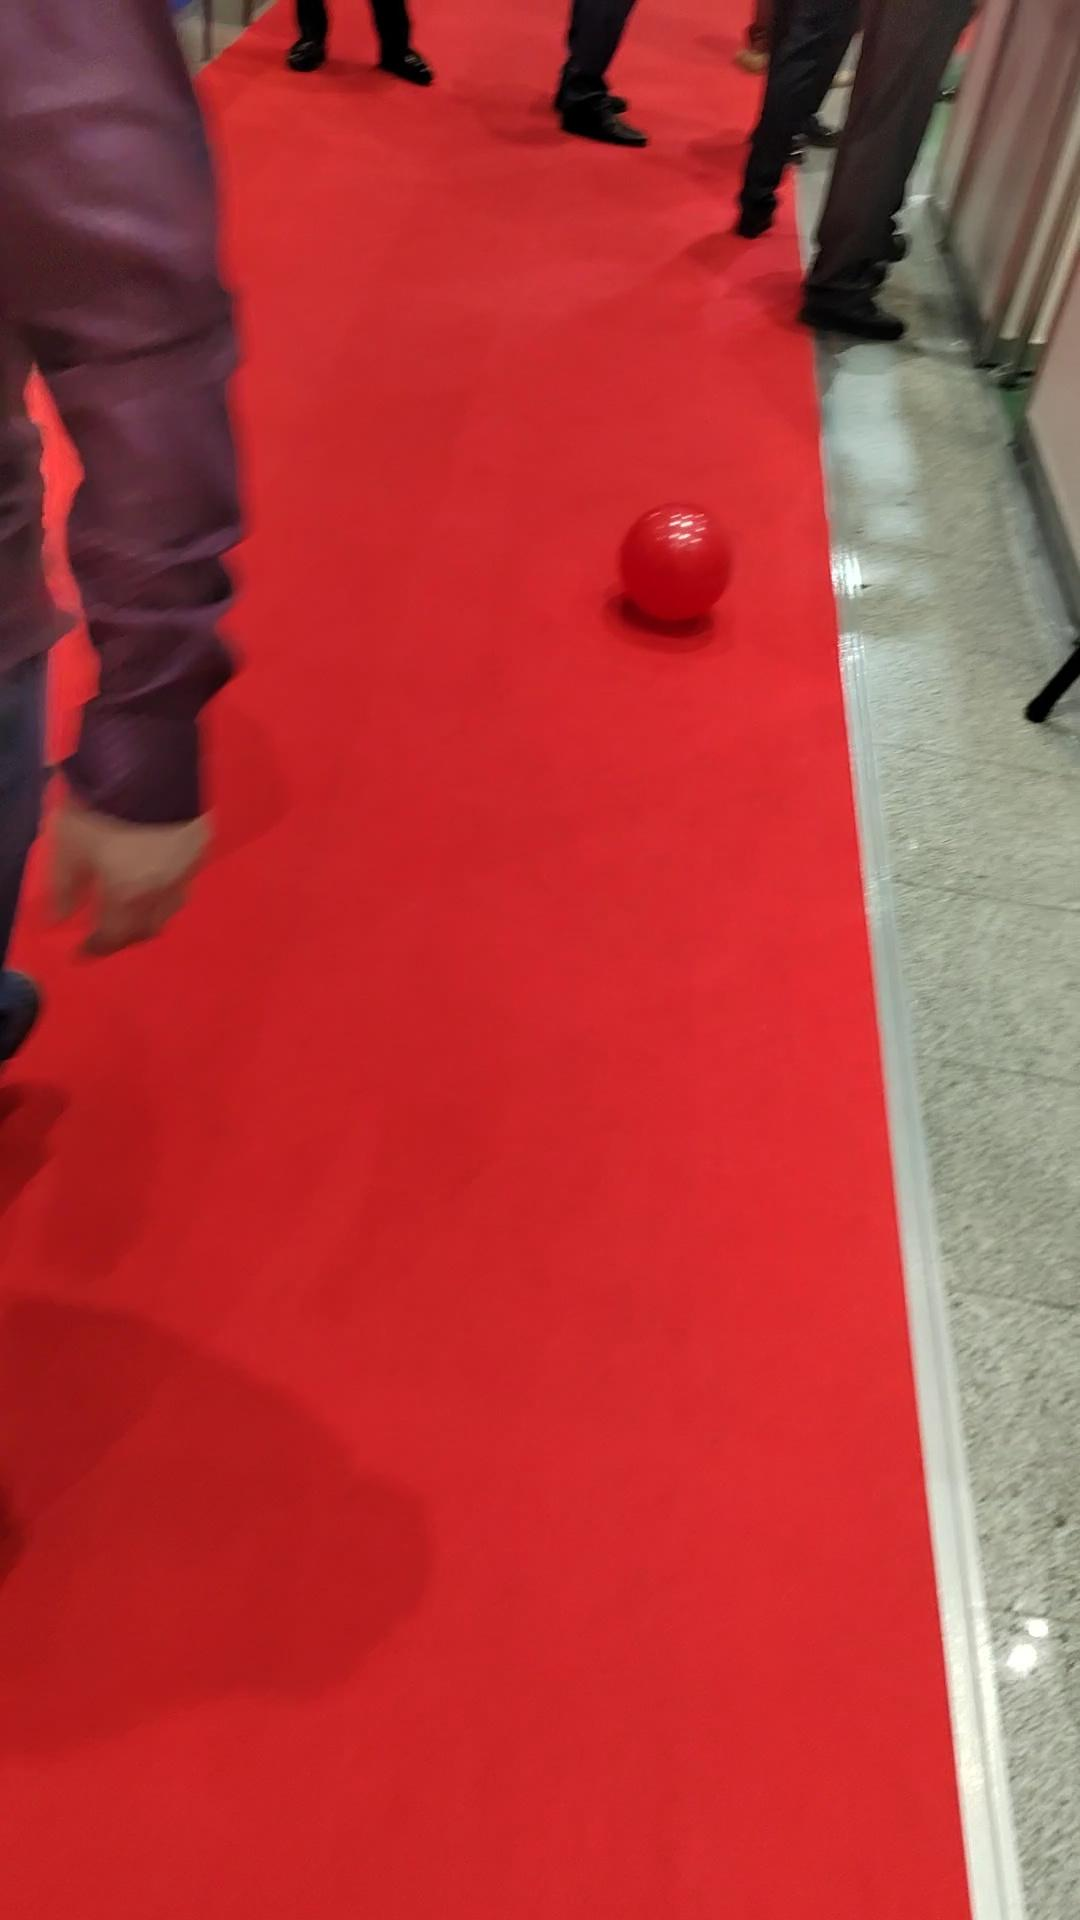red: (617, 502, 735, 622)
